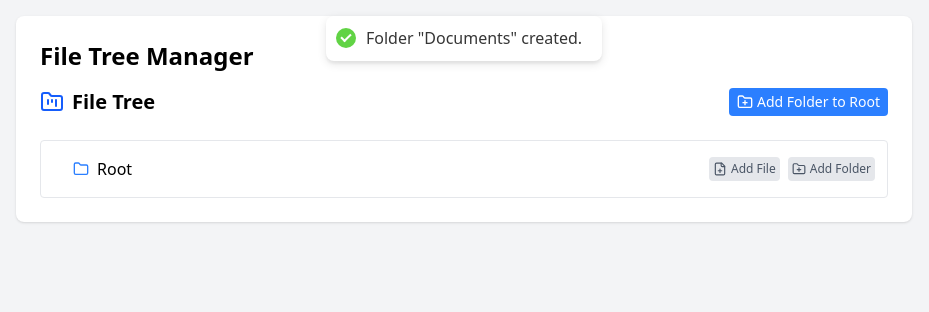
Test: Create Operations › should create a new file under a folder
This screenshot has width=929, height=312.
Click the button "Add Folder".
click(831, 169)  # box [788,157,875,181]
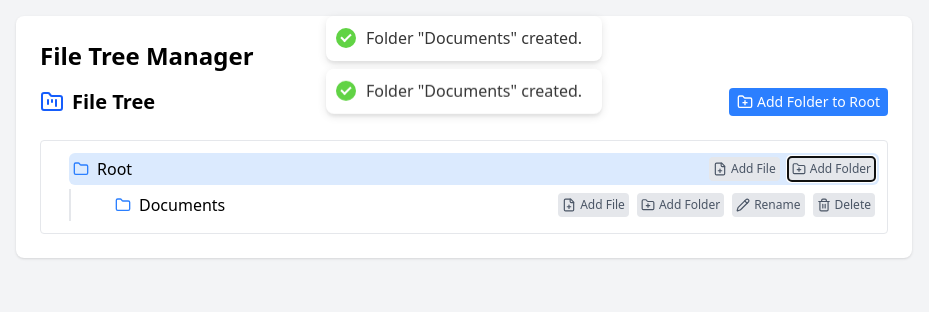
Click the 2nd button "Add File".
click(594, 205)  # box [558,193,629,217]
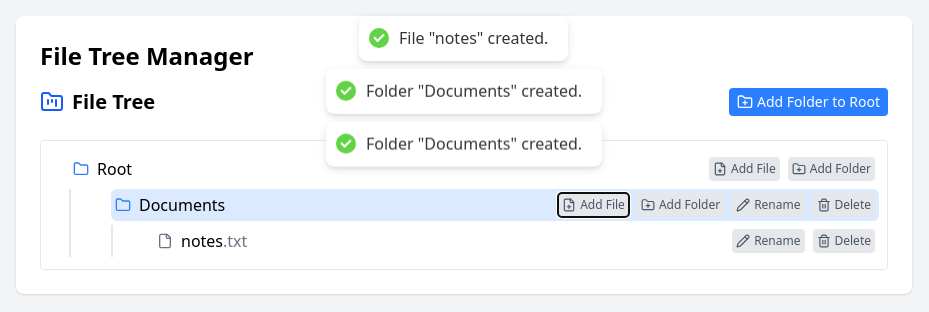
Check: the text "notes" is shown, box [181,230,223,252]
Check: the element showing "notes.txt" is shown, box [157,229,247,253]
Check: the text "File \"notes\" created." is shown, box [399,28,549,49]
